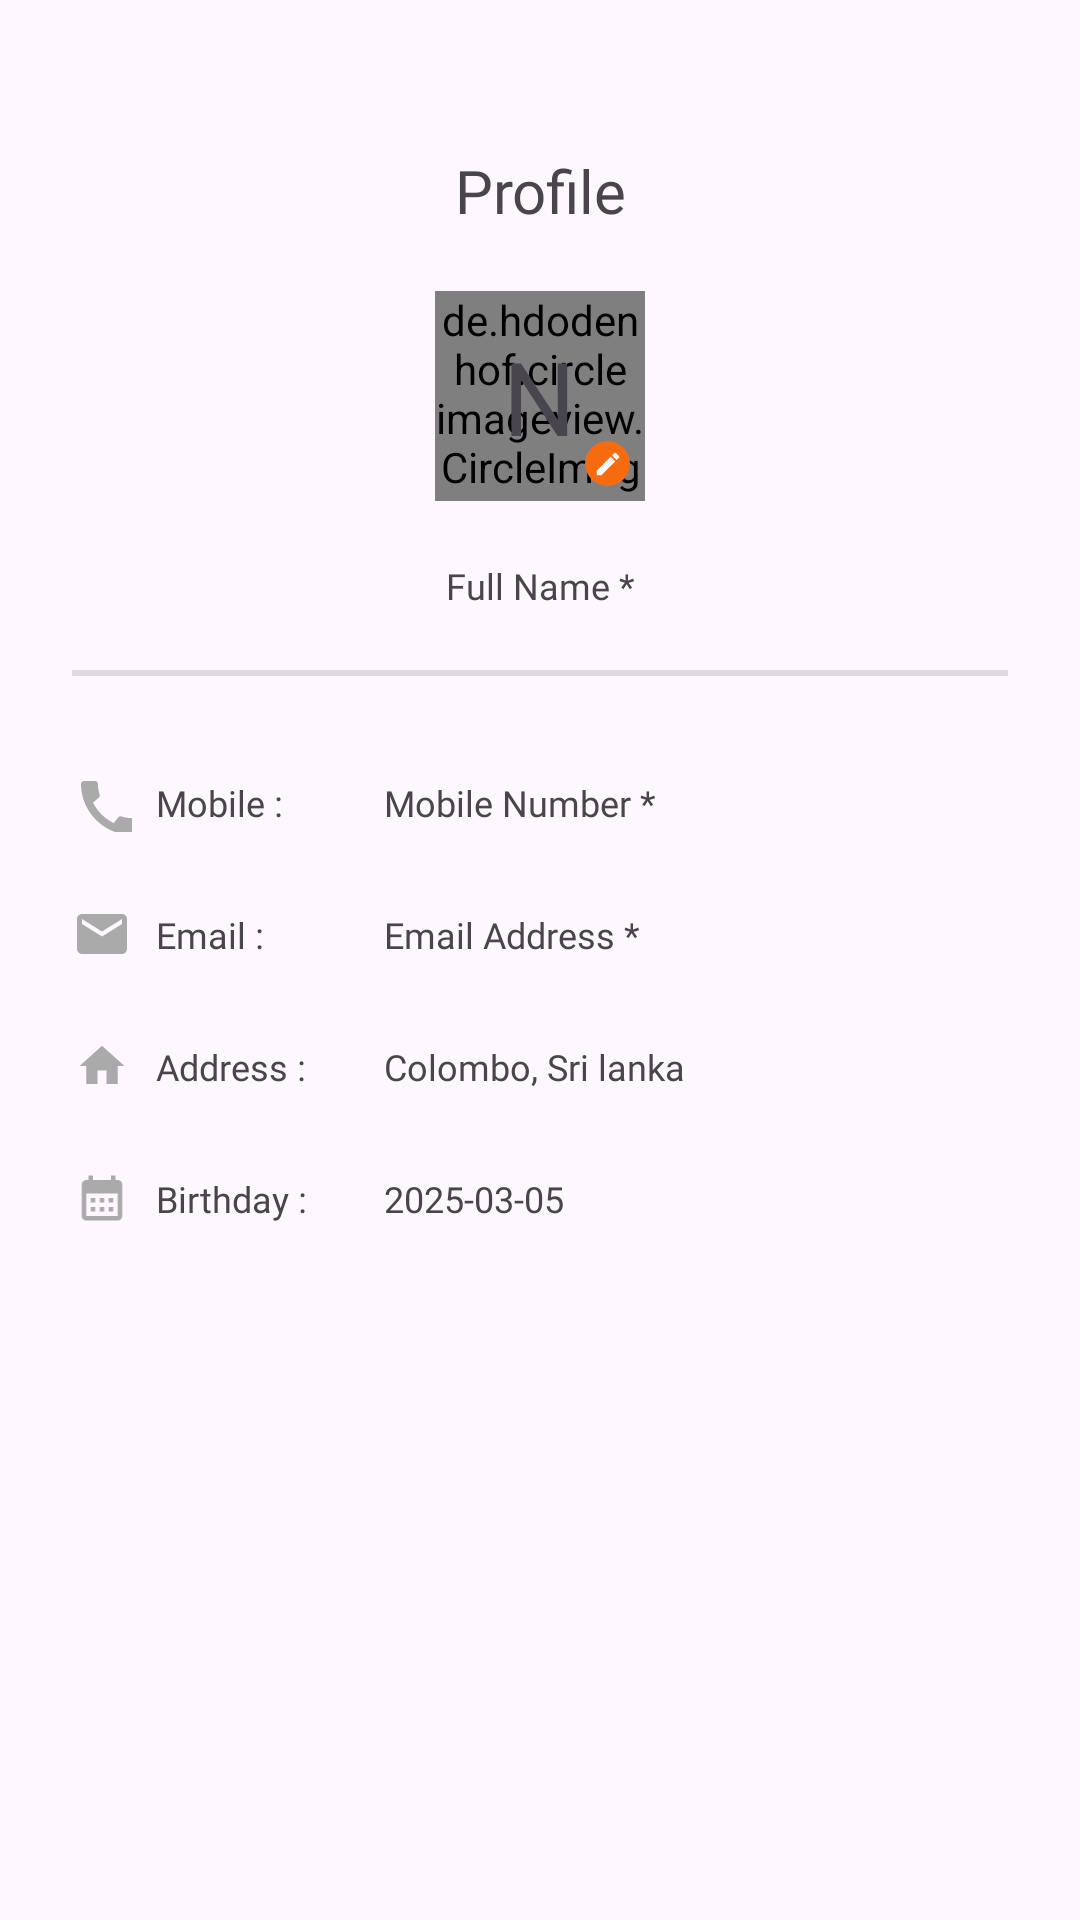

Named icons in this screenshot (1080*1920) and their centers, [x,y]:
calendar: [102,1198]
call: [106,806]
home: [102,1065]
